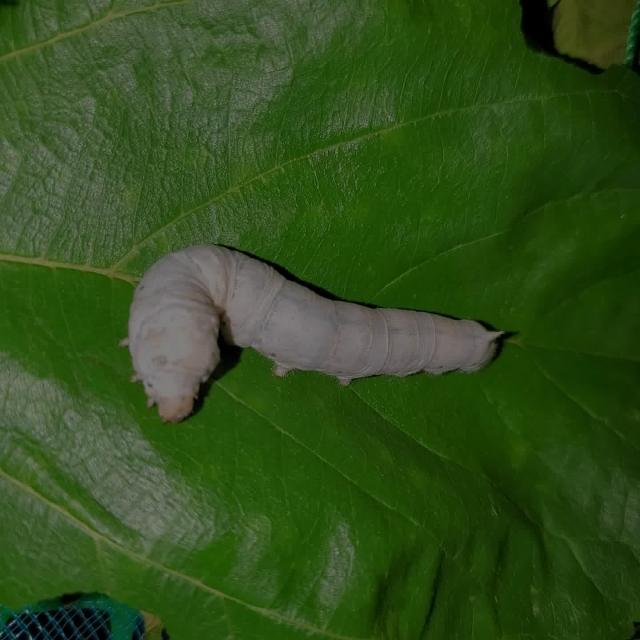Healthy: (104, 217, 533, 460)
